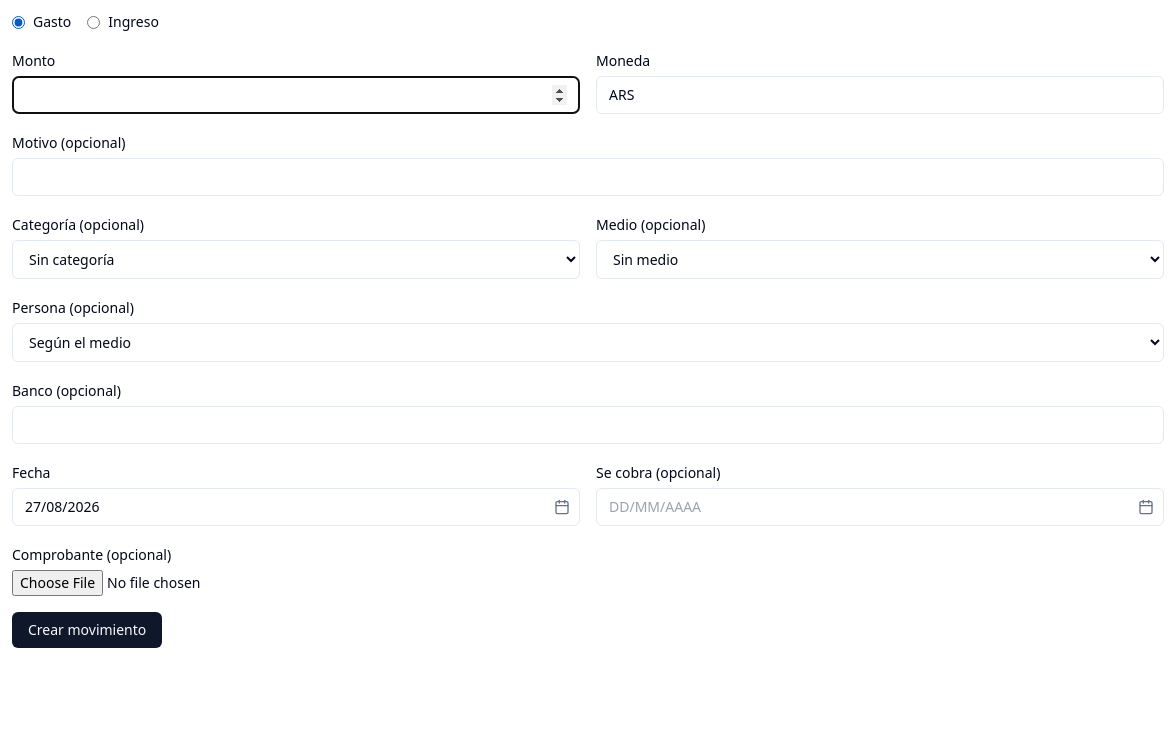
Scenario: TransactionForm › exige un monto mayor a 0 antes de enviar
Click the button "Crear movimiento" at {"x": 87, "y": 630}, box [12,612,162,648]
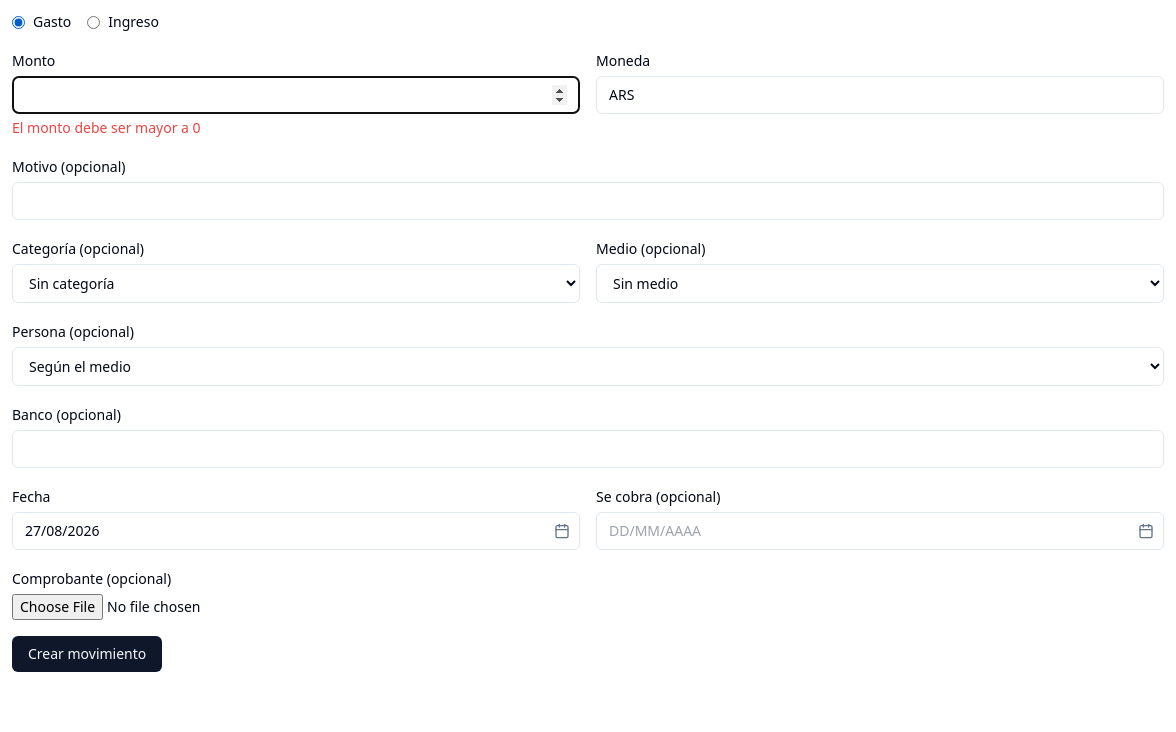
Now the text "El monto debe ser mayor a 0" is shown, box [12,118,201,137]
